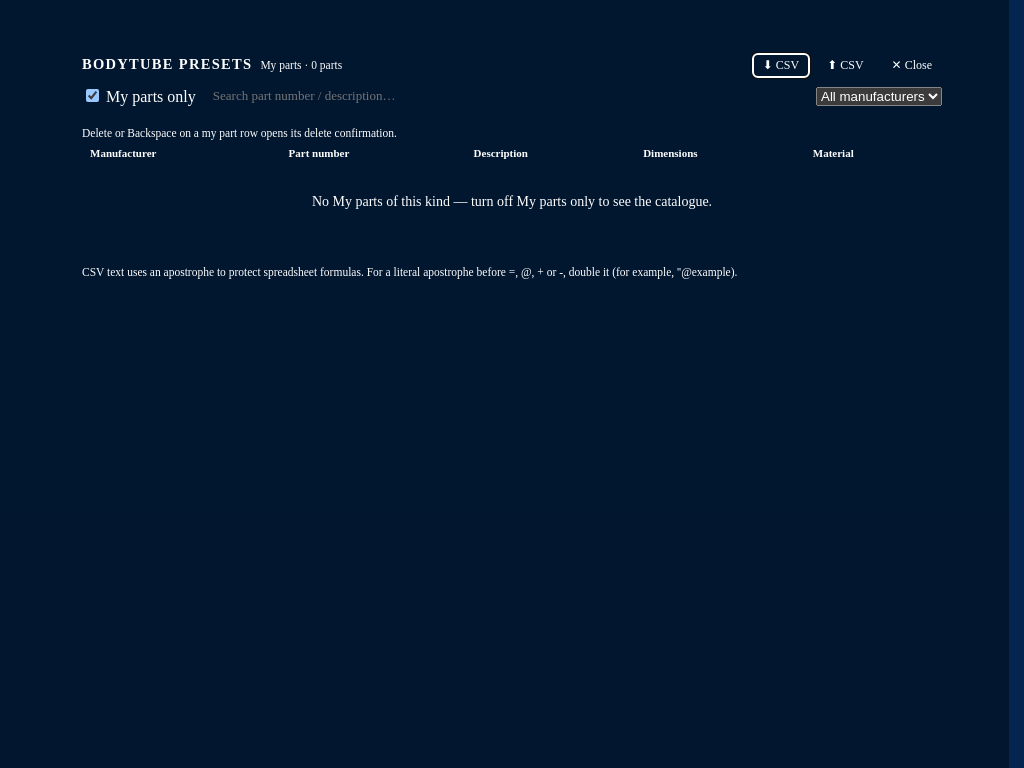
M2.3 My parts picker › labels the remembered My parts count and explains its empty view
Expected: the heading shows "My parts · 0 parts", [82,56,342,72]
What coordinates should you click on to do the following:
click the checkbox labelled "My parts only"
I would click on:
 (92, 96)
Its box is [86,89,99,102].
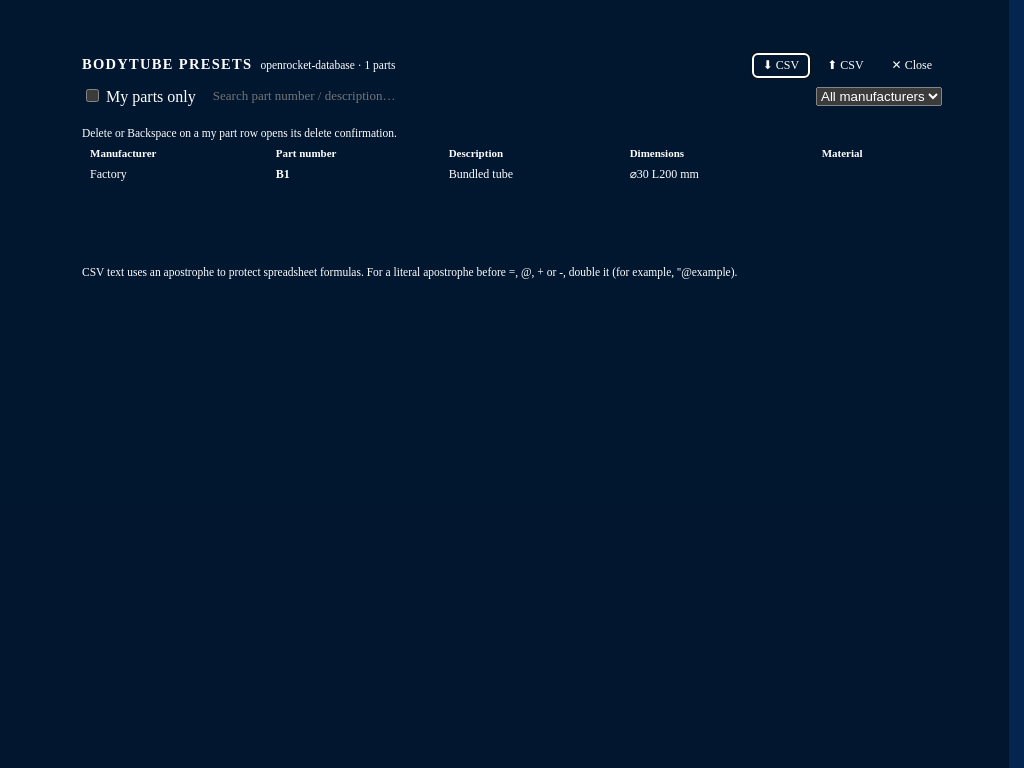
Result: the heading shows "openrocket-database · 1 parts" at [82,56,396,72]
